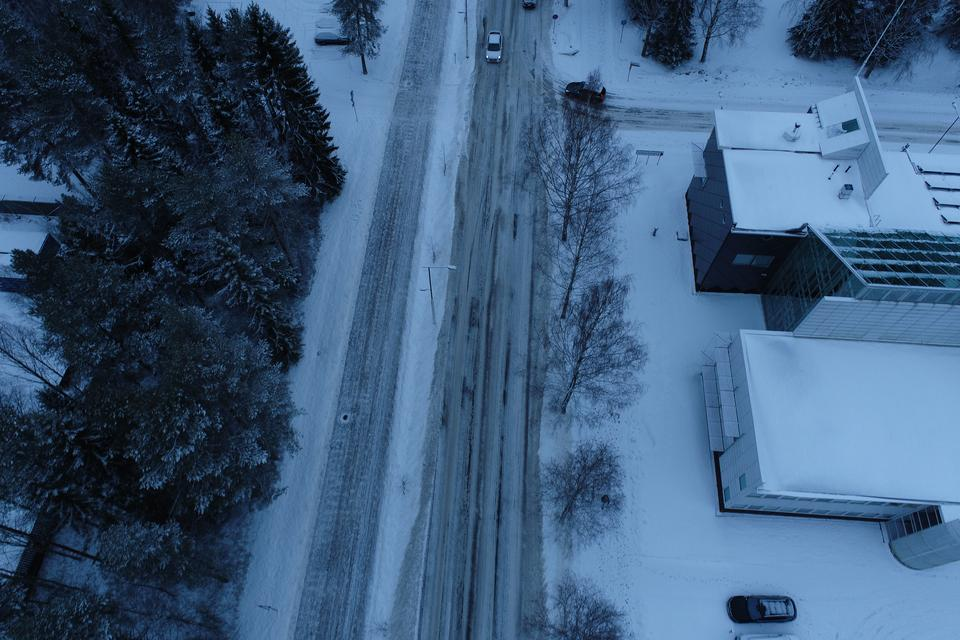intersection: (366, 59, 632, 146)
